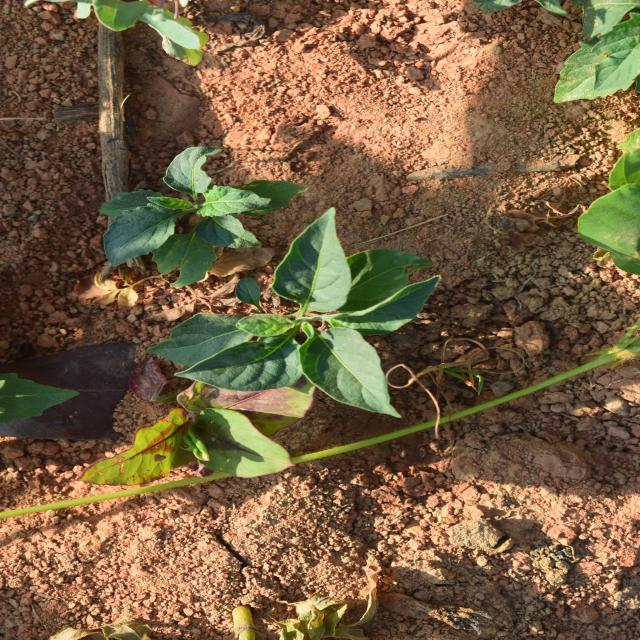Black_nightshade: (225, 167, 409, 440), (367, 87, 495, 324)
